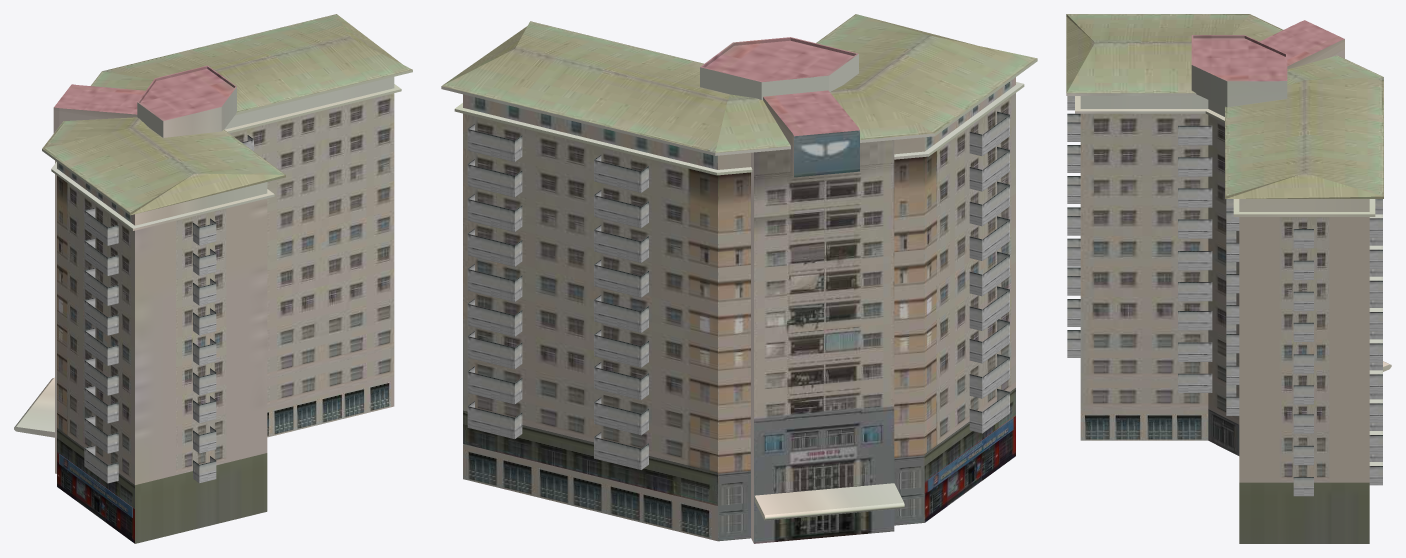
3 views of the same model, side by side, from view 1: azimuth 30°, elevation 25°; view 2: azimuth 150°, elevation 25°; view 3: azimuth 270°, elevation 25° (orthographic). The views are drawn at different scales.
Visible parts, largest first — view 1: HN817_ChungCuF5; view 2: HN817_ChungCuF5; view 3: HN817_ChungCuF5.
Boxes of the visible parts, x1,y1,x2,y2 form: HN817_ChungCuF5: (14,14,412,543); HN817_ChungCuF5: (441,14,1037,543); HN817_ChungCuF5: (1066,14,1391,543).
Size of the model in its own units: 46.14 by 44.59 by 34.6.
Materials: 1 (1 with a texture image).
